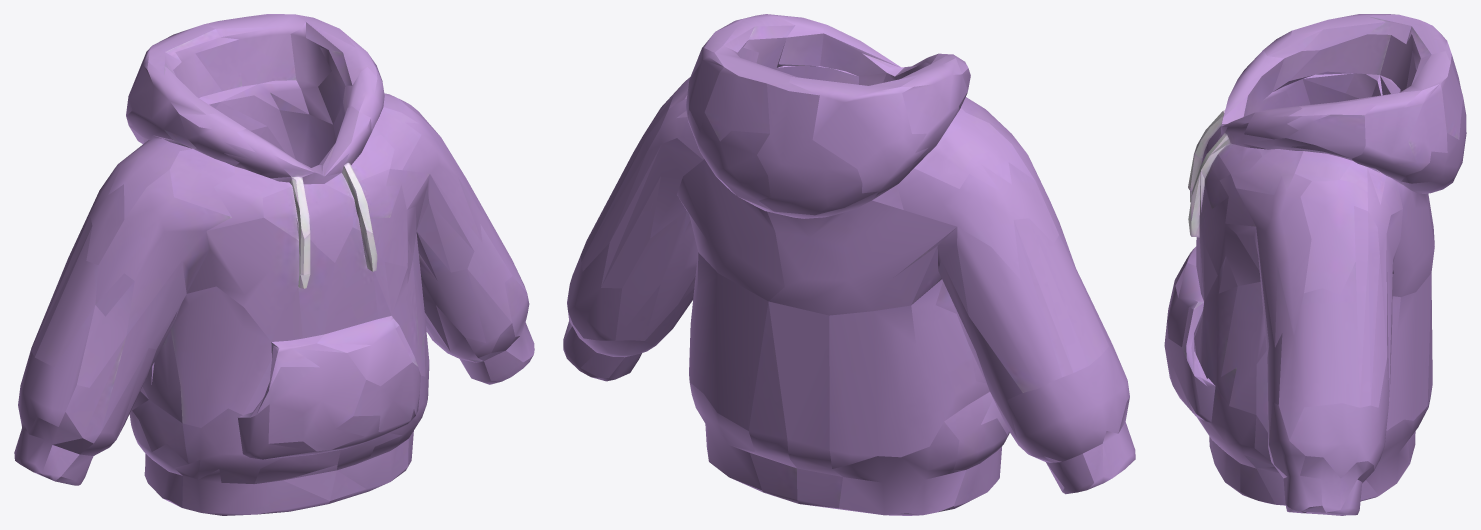
File: hoodie_soft.fbx
3 views of the same model, side by side, from view 1: azimuth 30°, elevation 25°; view 2: azimuth 150°, elevation 25°; view 3: azimuth 270°, elevation 25° (orthographic). The views are drawn at different scales.
Parts seen in each view (by area): view 1: Mesh_0; view 2: Mesh_0; view 3: Mesh_0.
Boxes of the visible parts, x1,y1,x2,y2 form: Mesh_0: (14, 14, 534, 515); Mesh_0: (563, 14, 1135, 515); Mesh_0: (1164, 14, 1466, 515).
Size of the model in its own units: 1.89 by 1.43 by 0.9847.
Materials: 1 (1 with a texture image).
